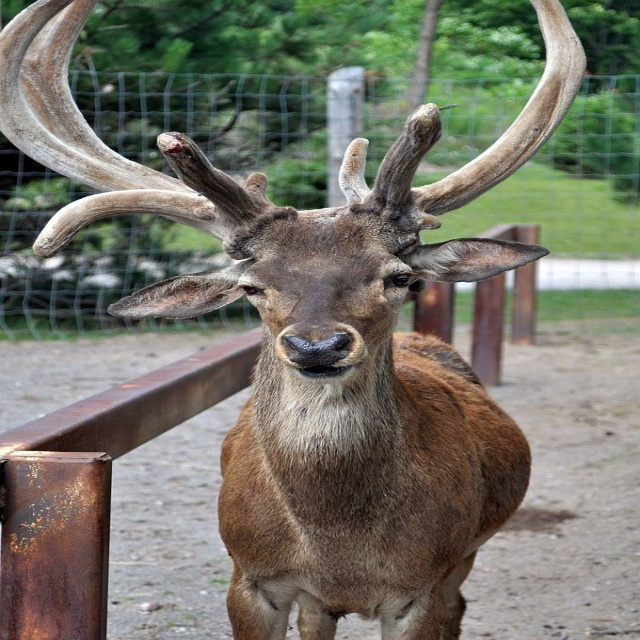Deer: (0, 0, 588, 640)
